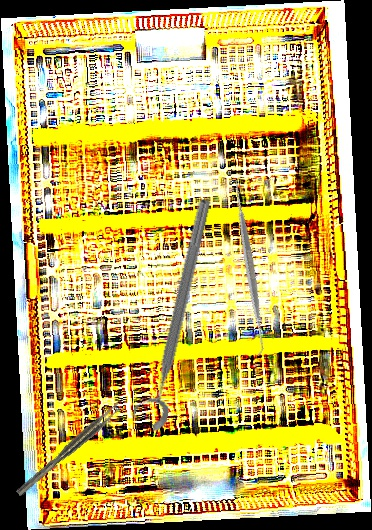Fixation Ring: (127, 193, 218, 434)
Spatula Surgical: (158, 175, 341, 358)
Tissue Forceps: (12, 401, 125, 497)
